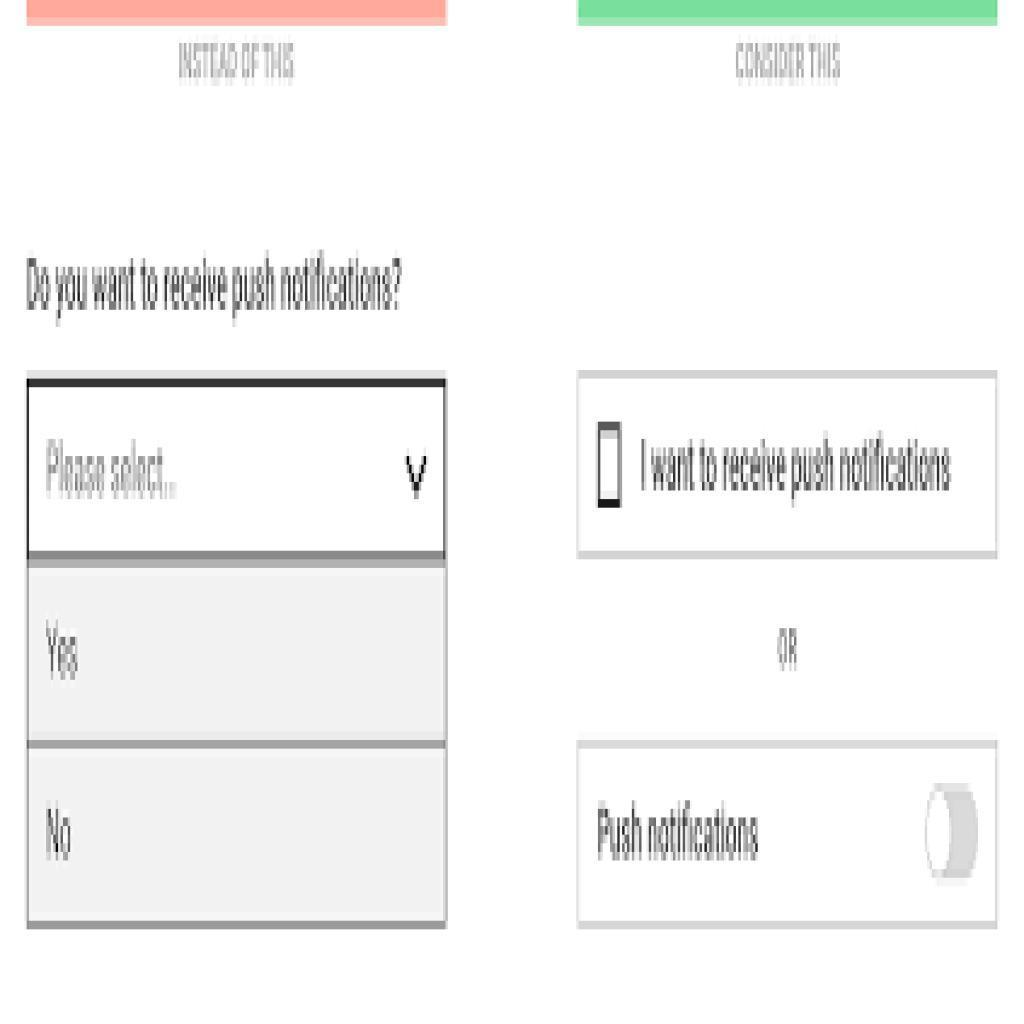checkbox: (596, 424, 623, 510)
dropdown: (26, 380, 448, 560)
label: (638, 430, 960, 506), (591, 794, 773, 871)
switch: (929, 782, 982, 882)
